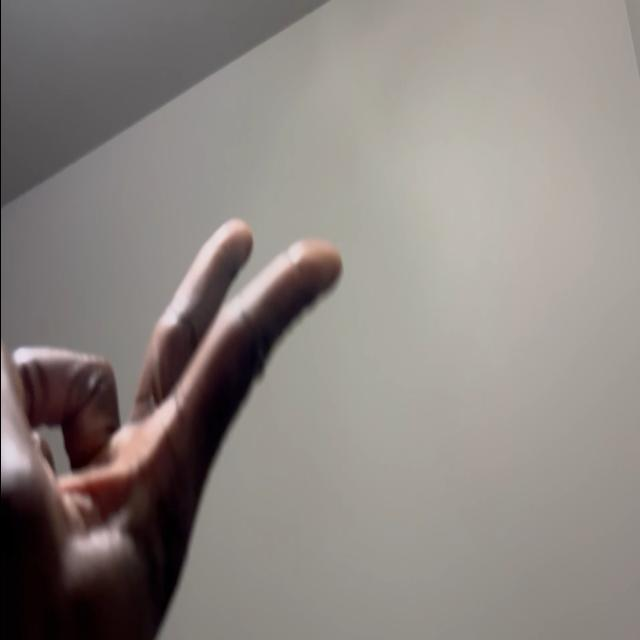Scissors: (0, 217, 344, 639)
